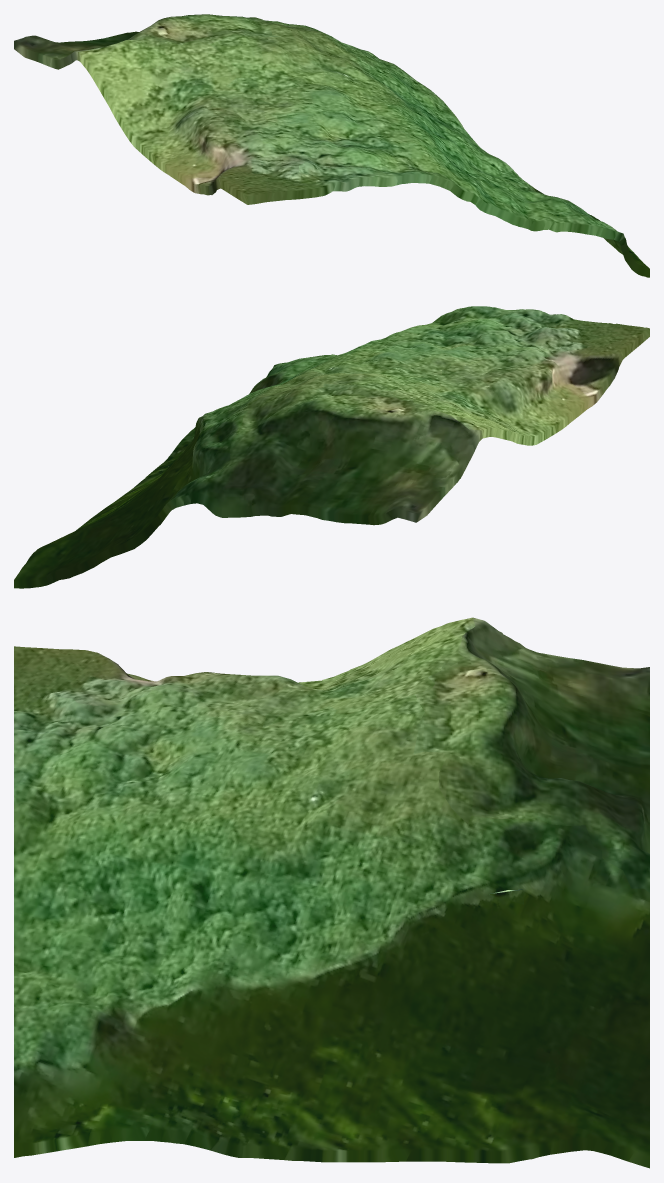
The model's file is z20-167555-405172-h0-yup-uvflip-v3-world.glb.
3 renders of one model, top to bottom at view 1: azimuth 30°, elevation 25°; view 2: azimuth 150°, elevation 25°; view 3: azimuth 270°, elevation 25°, orthographic. The views are drawn at different scales.
Size of the model in its own units: 30.16 by 15.24 by 30.32.
1 material, 1 textured.
